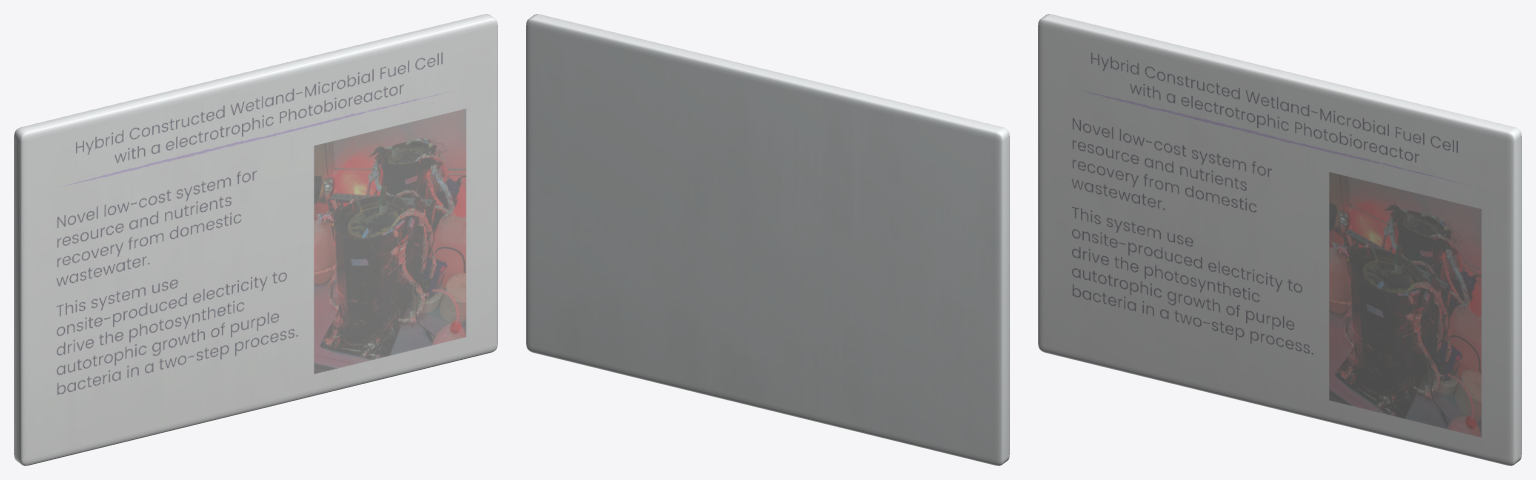
File: Cartel_SistemaAislado.glb
3 renders of one model, left to right at view 1: azimuth 30°, elevation 25°; view 2: azimuth 150°, elevation 25°; view 3: azimuth 330°, elevation 25°, orthographic.
Visible parts, largest first — view 1: Box011; view 2: Box011; view 3: Box011.
Part boxes in pixels (left/top/right/bottom): Box011: left=14, top=14, right=497, bottom=465; Box011: left=526, top=14, right=1009, bottom=465; Box011: left=1038, top=14, right=1521, bottom=465.
Bounding box in the file's own units: 1.1 × 0.7335 × 0.0348.
1 material, 1 textured.
